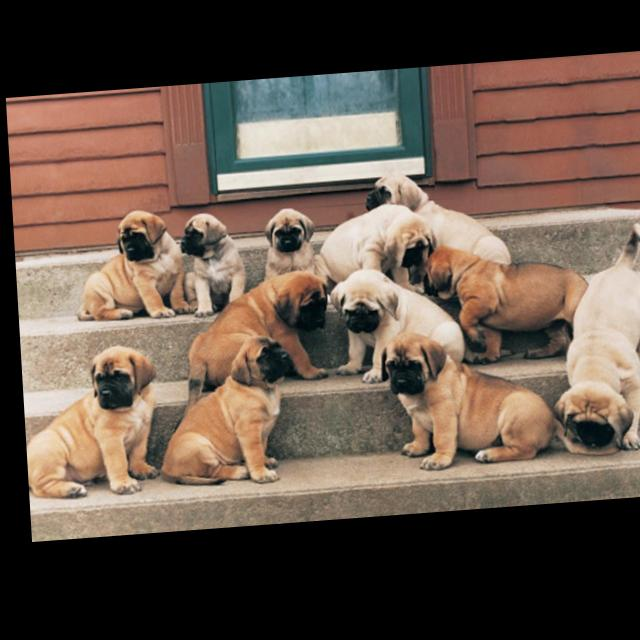mastiff: (371, 328, 613, 481), (541, 233, 640, 468), (150, 339, 296, 494), (18, 345, 158, 503), (420, 245, 588, 376), (177, 274, 329, 413), (361, 173, 509, 306), (325, 270, 462, 392), (69, 210, 189, 327), (309, 207, 435, 307), (176, 215, 244, 322), (258, 211, 315, 286)
